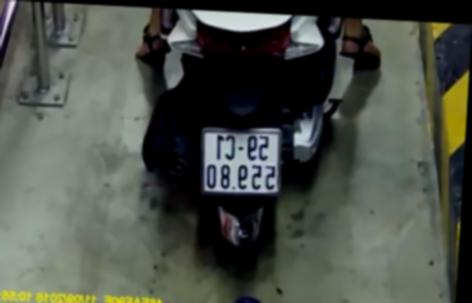License_Plate: (189, 120, 288, 204)
